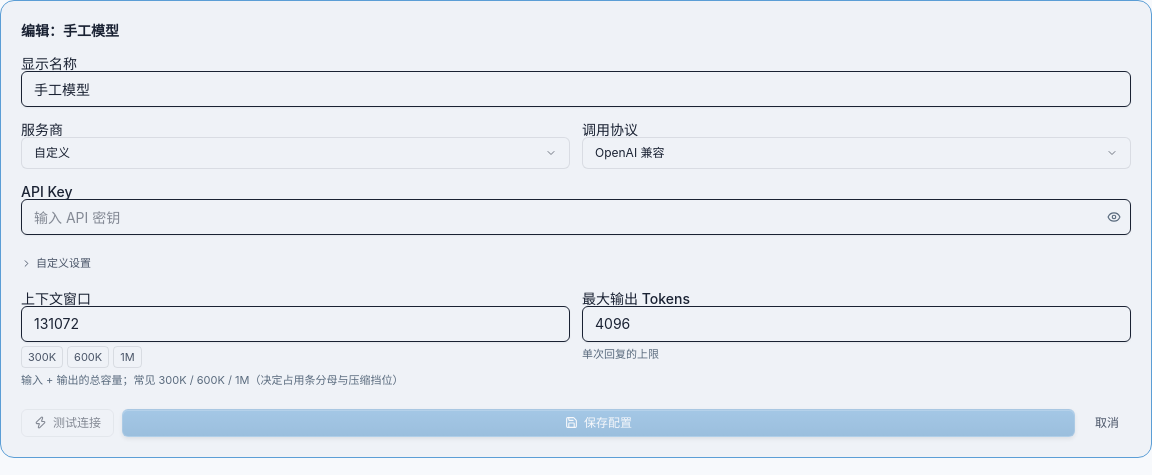
Test: ModelForm 上下文窗口默认值与快捷挡位 › 快捷挡位 300K / 600K / 1M → 写入 300000 / 600000 / 1000000（原生 button）
Click the button "300K".
click(42, 357)  # box [21,346,63,368]
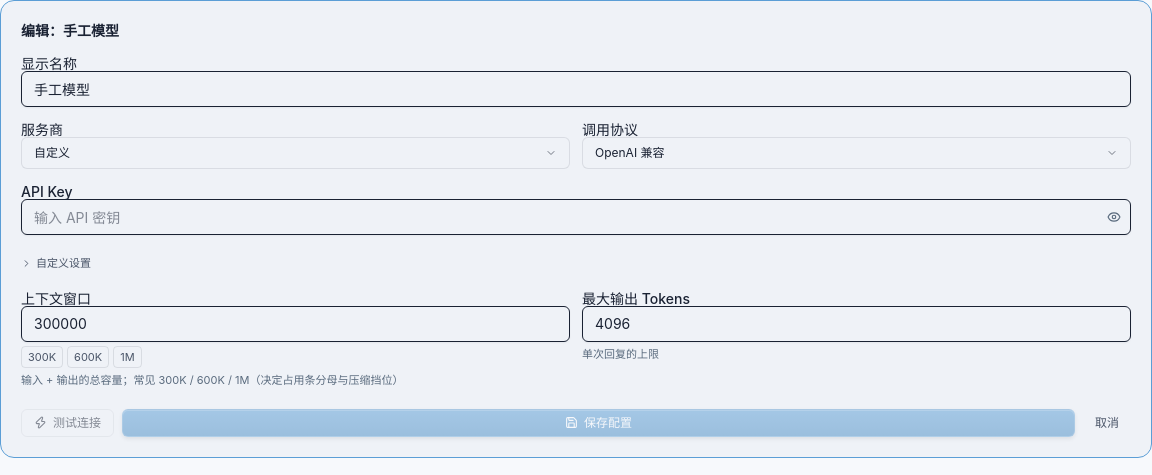
Check: the number field below "上下文窗口" holds "300000", box [21,306,570,342]
Click the button "600K".
click(88, 357)  # box [67,346,109,368]
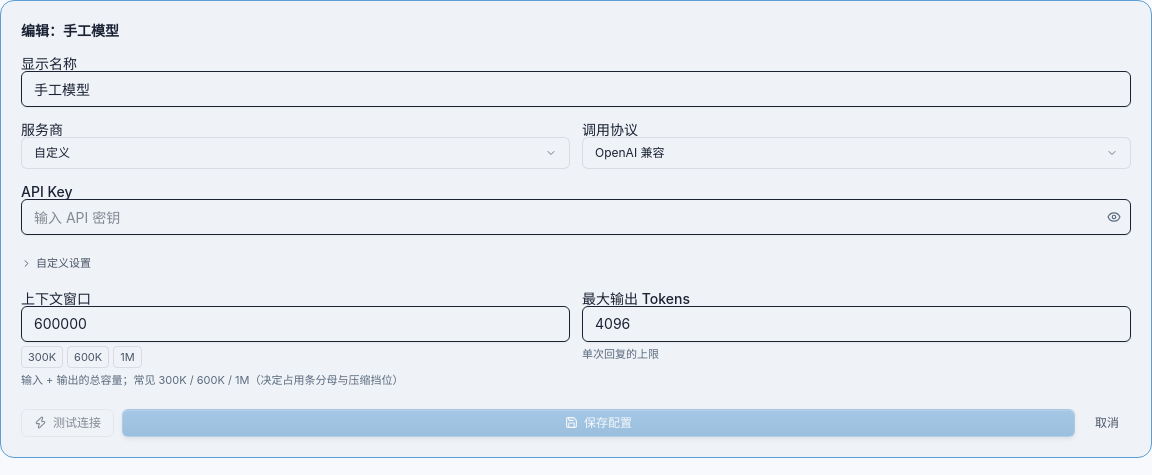
Check: the number field below "上下文窗口" holds "600000", box [21,306,570,342]
Click the button "1M".
click(127, 357)  # box [113,346,142,368]
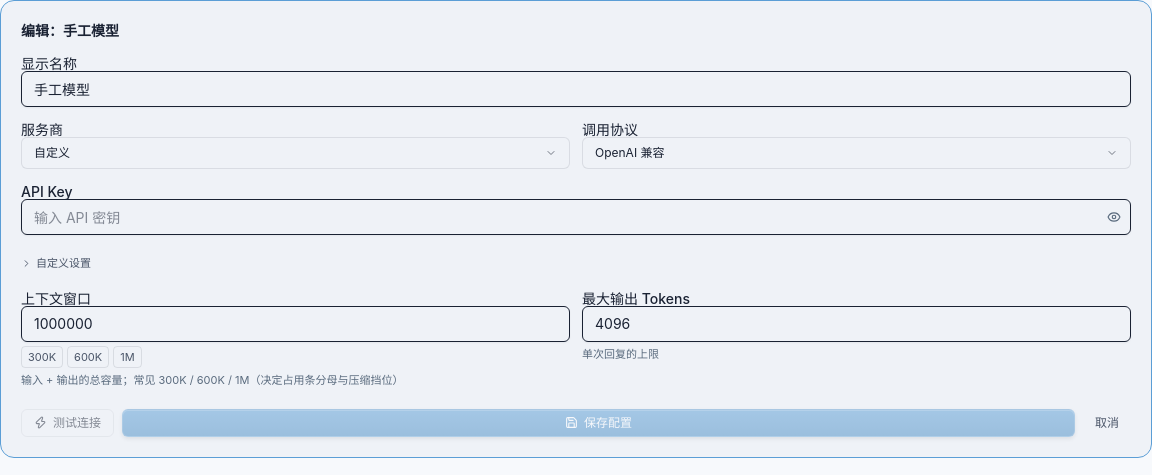
Check: the number field below "上下文窗口" holds "1000000", box [21,306,570,342]
